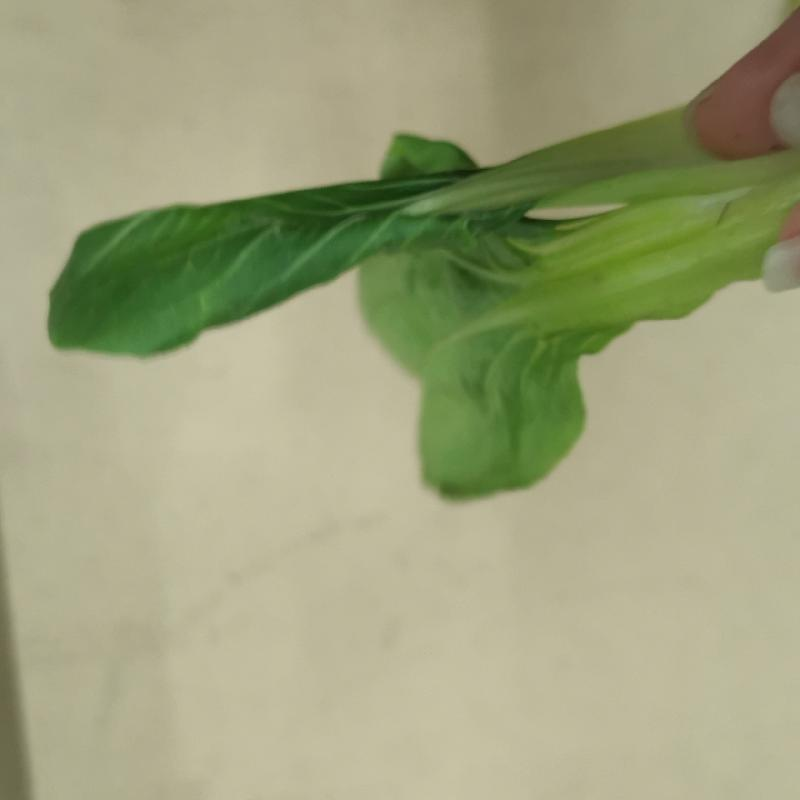green vegatable: (42, 86, 800, 513)
